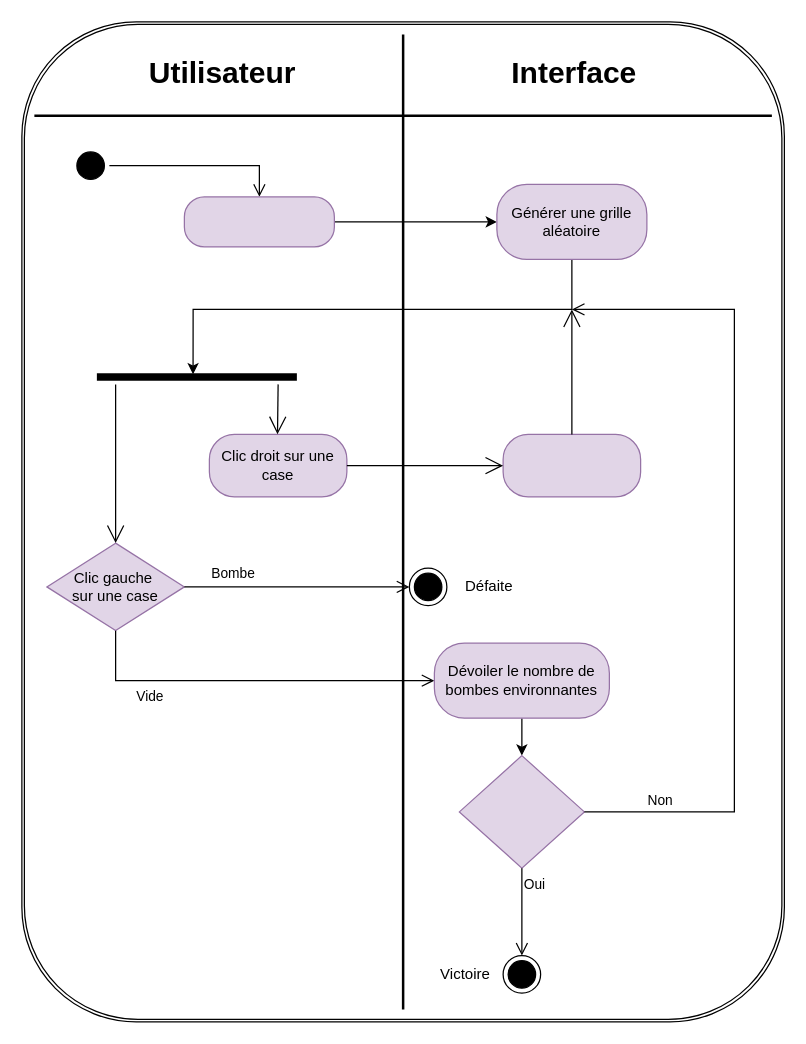
Some shapes in this 806 by 1044 pixel diagram are drawn without their labels. The centre of each missing label's shape, as x and y in pixels:
"Ajouter un drapeau" goes at (571,465).
"Sélectionner un niveau de difficulté" goes at (258,221).
"Toutes les bombes sont révélées ?" goes at (521,811).
